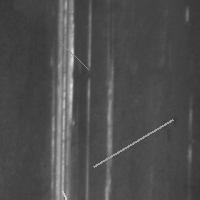scratches: (46, 1, 81, 200), (88, 115, 177, 172), (102, 65, 117, 200), (54, 36, 93, 74), (57, 186, 83, 200)
